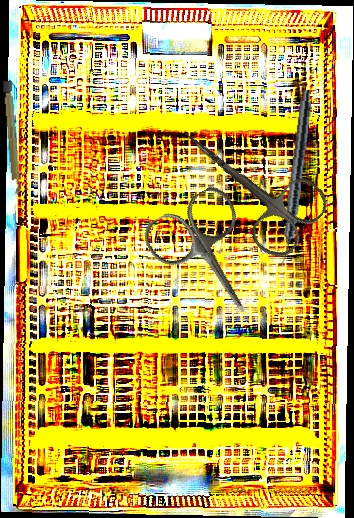Handpiece: (276, 88, 314, 268)
Iris Scissors: (159, 99, 335, 266), (137, 181, 284, 337)
Scalpel Handle: (2, 80, 22, 197)
